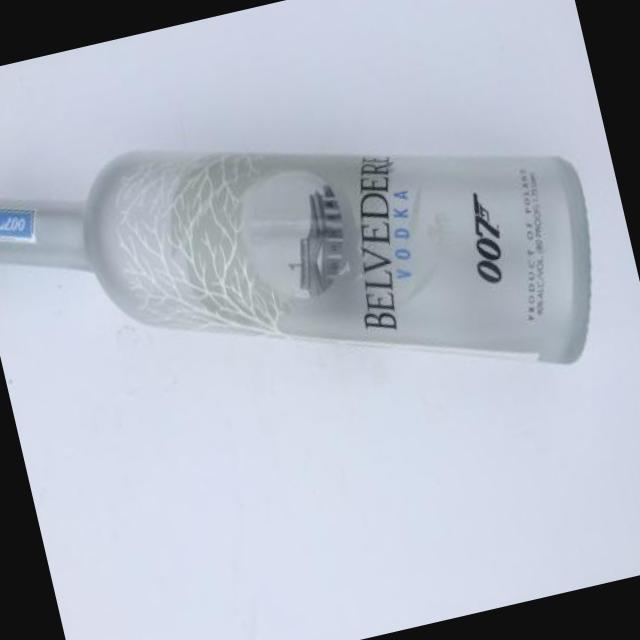bottle: (0, 152, 590, 362)
